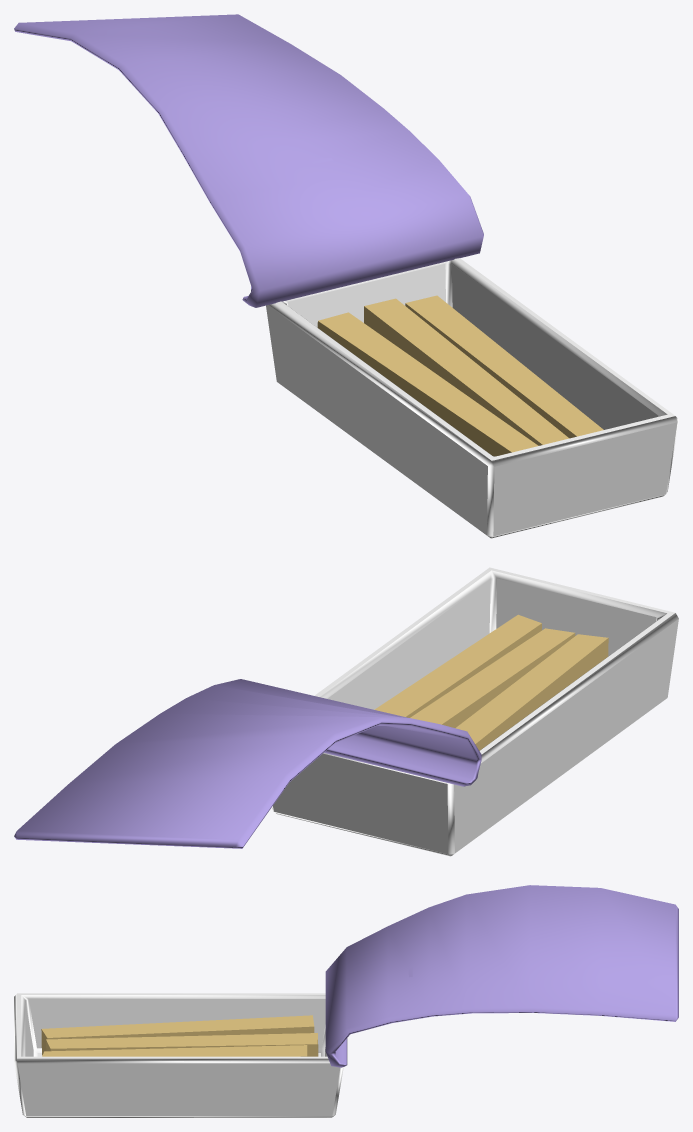
The model's file is danmuji_2.fbx.
3 renders of one model, top to bottom at view 1: azimuth 30°, elevation 25°; view 2: azimuth 150°, elevation 25°; view 3: azimuth 270°, elevation 25°, orthographic. The views are drawn at different scales.
Parts seen in each view (by area): view 1: danmuji_opened; view 2: danmuji_opened; view 3: danmuji_opened.
Part boxes in pixels (<box>): danmuji_opened: <box>14,14,678,538</box>; danmuji_opened: <box>14,567,678,856</box>; danmuji_opened: <box>14,885,678,1117</box>.
Bounding box in the file's own units: 13.51 × 12.46 × 45.7.
